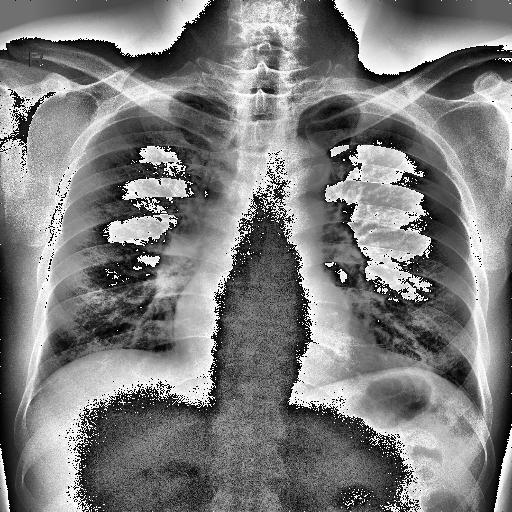0- Aortic enlargement: (272, 135, 332, 203), (266, 138, 328, 186), (278, 142, 332, 190)
11- Pleural thickening: (120, 94, 232, 110)
